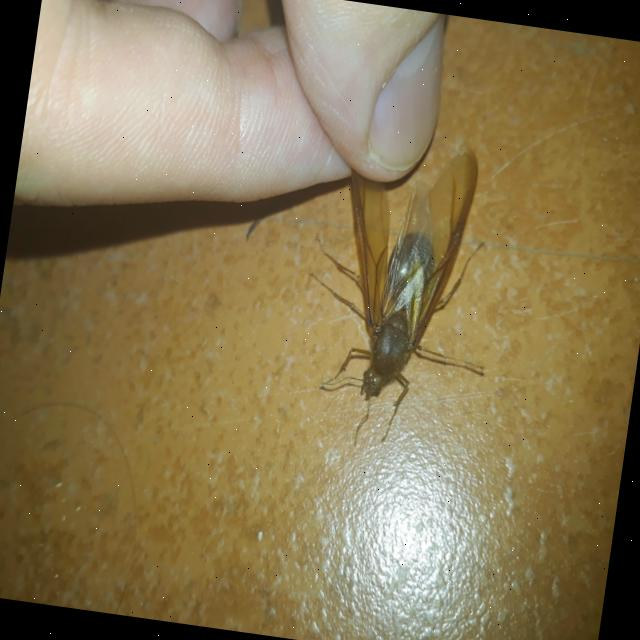Alive-Male-Alate: (286, 126, 516, 464)
